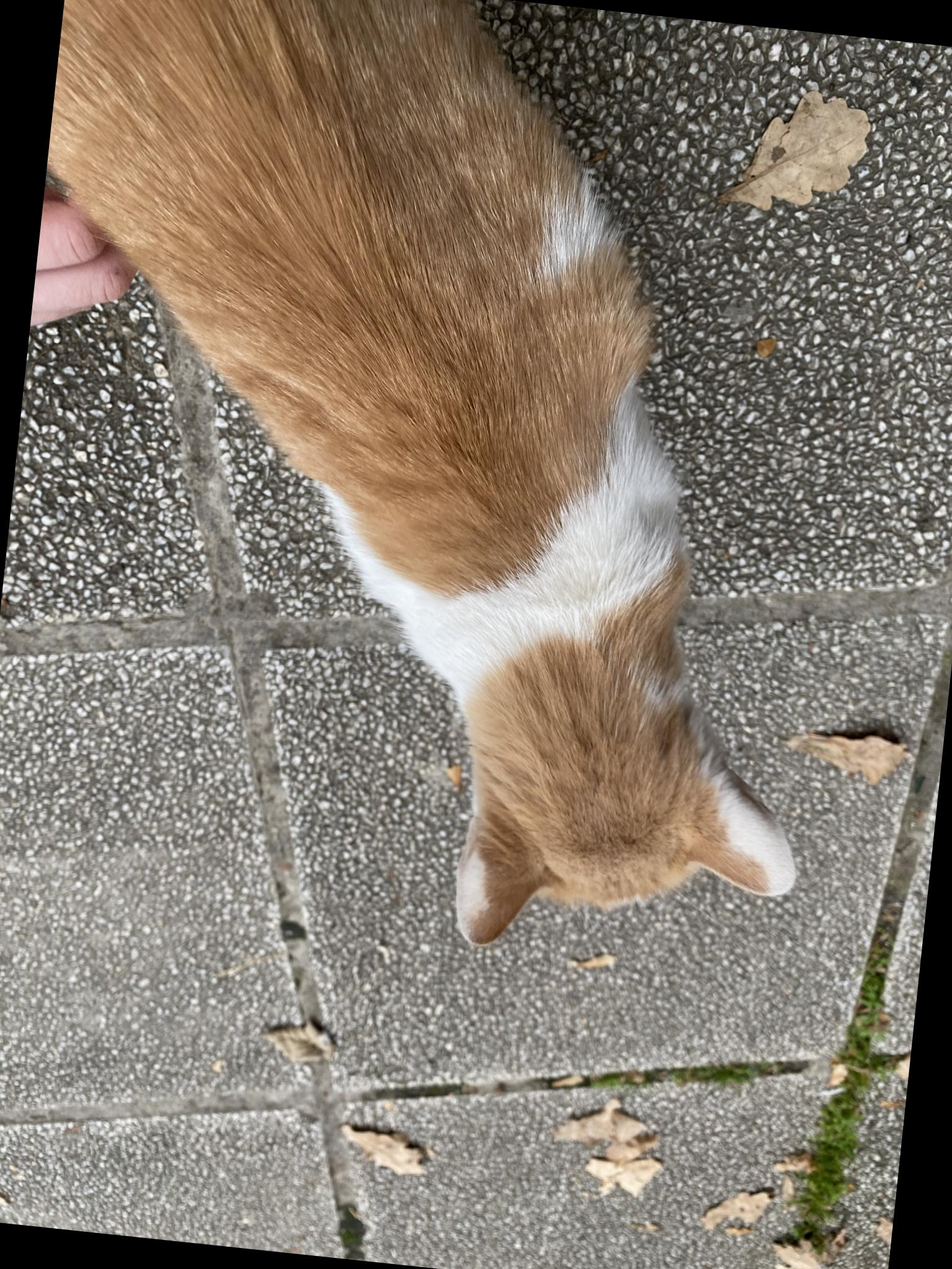macka: (0, 0, 884, 980)
